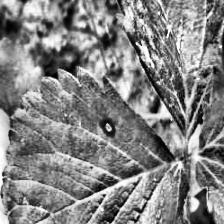Leaf Spot: (0, 64, 198, 224), (194, 0, 224, 224)
